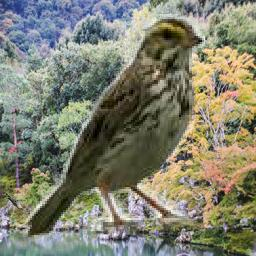Cuckoo: (5, 191, 24, 209)
Sparrow: (23, 14, 205, 242)
